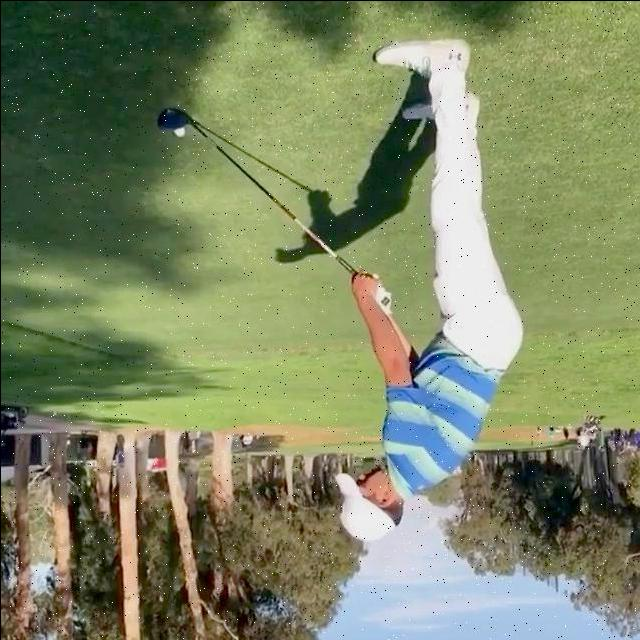golf ball: (173, 127, 184, 135)
golf club-handle: (154, 105, 390, 306)
golf club-head: (156, 107, 187, 131)
